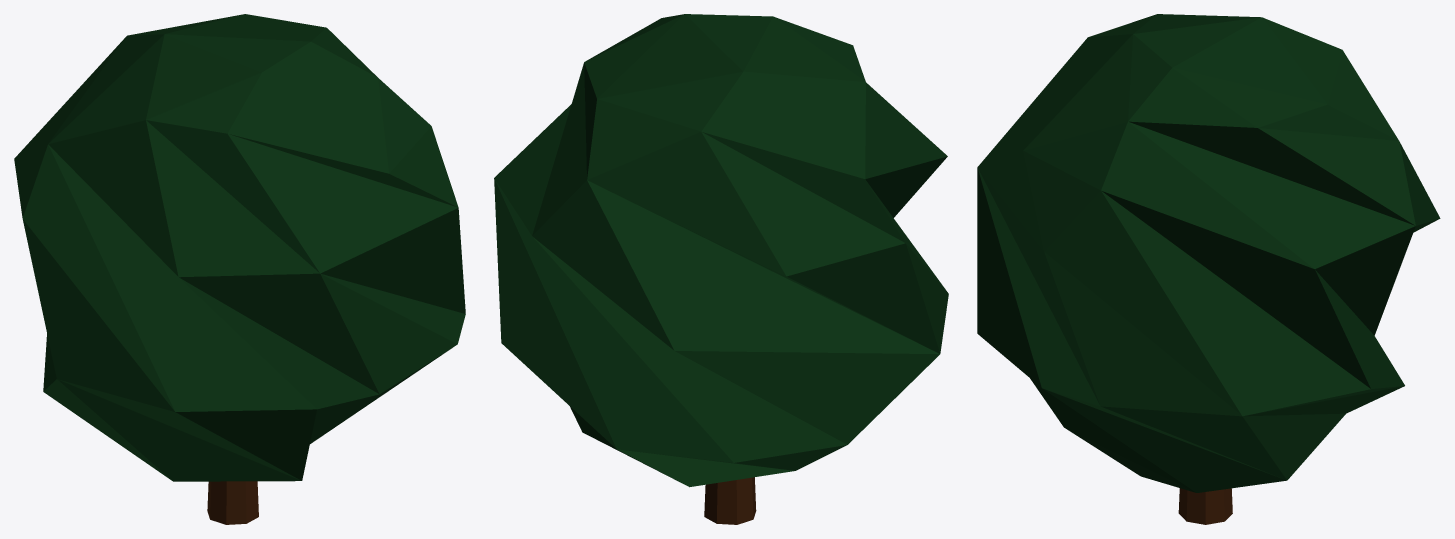
The model's file is Bush_b_c_01.fbx.
3 renders of one model, left to right at view 1: azimuth 30°, elevation 25°; view 2: azimuth 150°, elevation 25°; view 3: azimuth 270°, elevation 25°, orthographic.
Visible parts, largest first — view 1: Bush_b_c_01_LOD0; view 2: Bush_b_c_01_LOD0; view 3: Bush_b_c_01_LOD0.
Boxes of the visible parts, bbox=[...] form: Bush_b_c_01_LOD0: bbox=[14, 14, 465, 524]; Bush_b_c_01_LOD0: bbox=[494, 14, 948, 524]; Bush_b_c_01_LOD0: bbox=[977, 14, 1440, 524].
Size of what is drawn, in the model's own units: 21.99 by 25.09 by 22.12.
